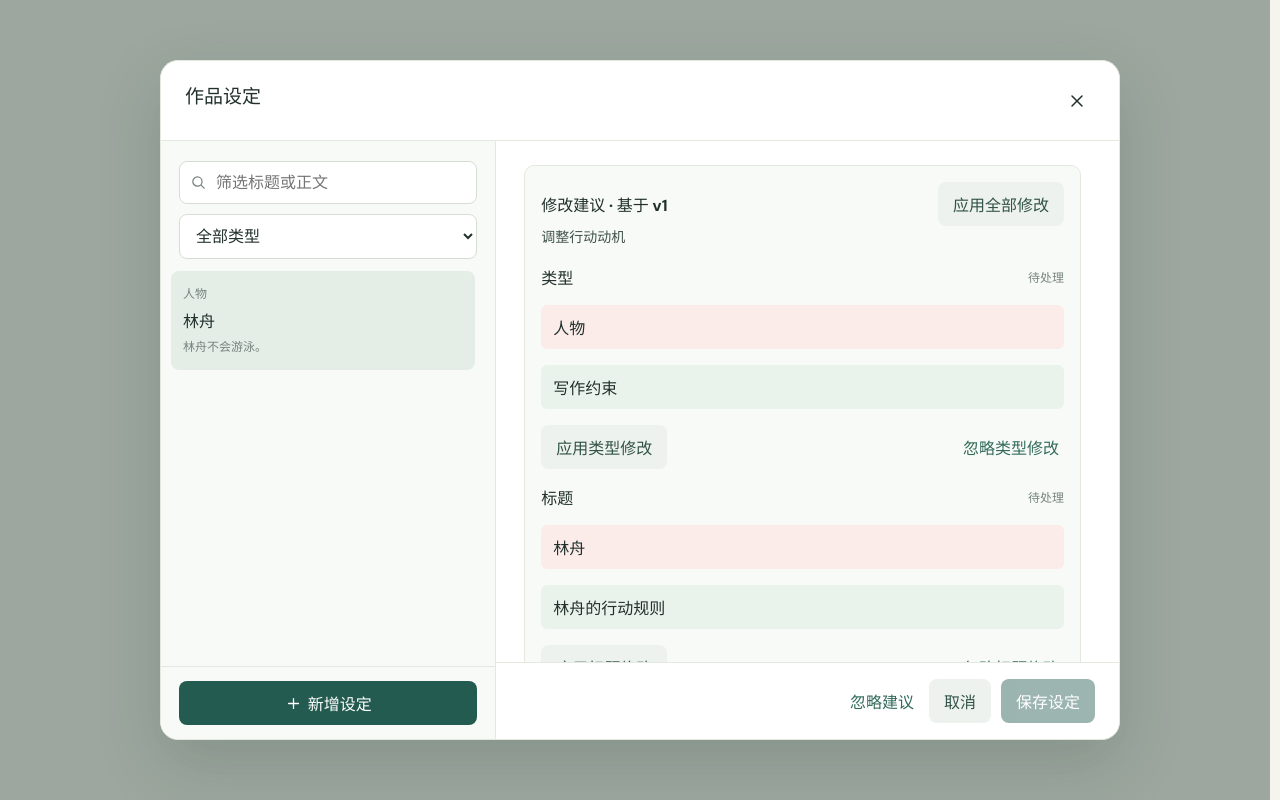
it: a server conflict preserves the setting draft and blocks repeated overwrites
Expected: the form named "审阅设定修改" is shown, [496,141,1119,739]
Click the button "应用全部修改": (1001, 204) [938,182,1064,226]
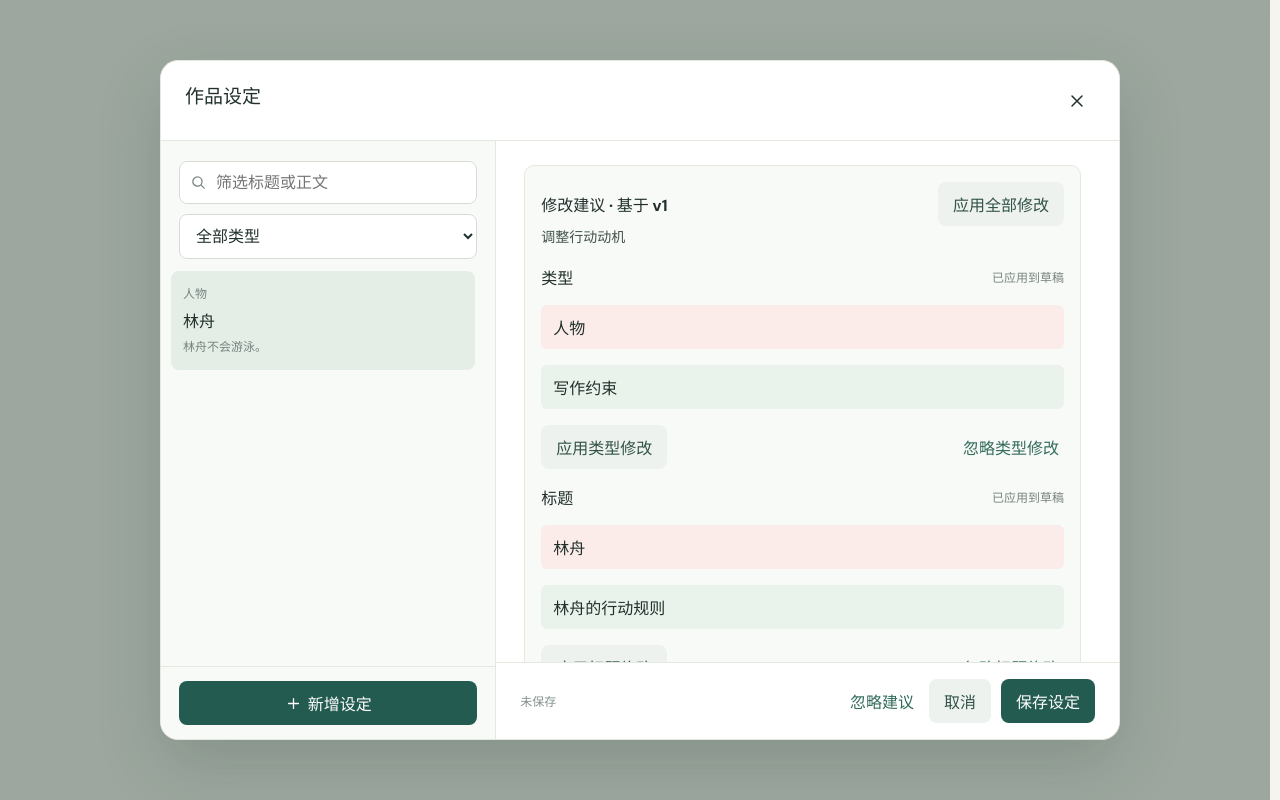
Click the button "保存设定": (1048, 701) [1001,679,1095,723]
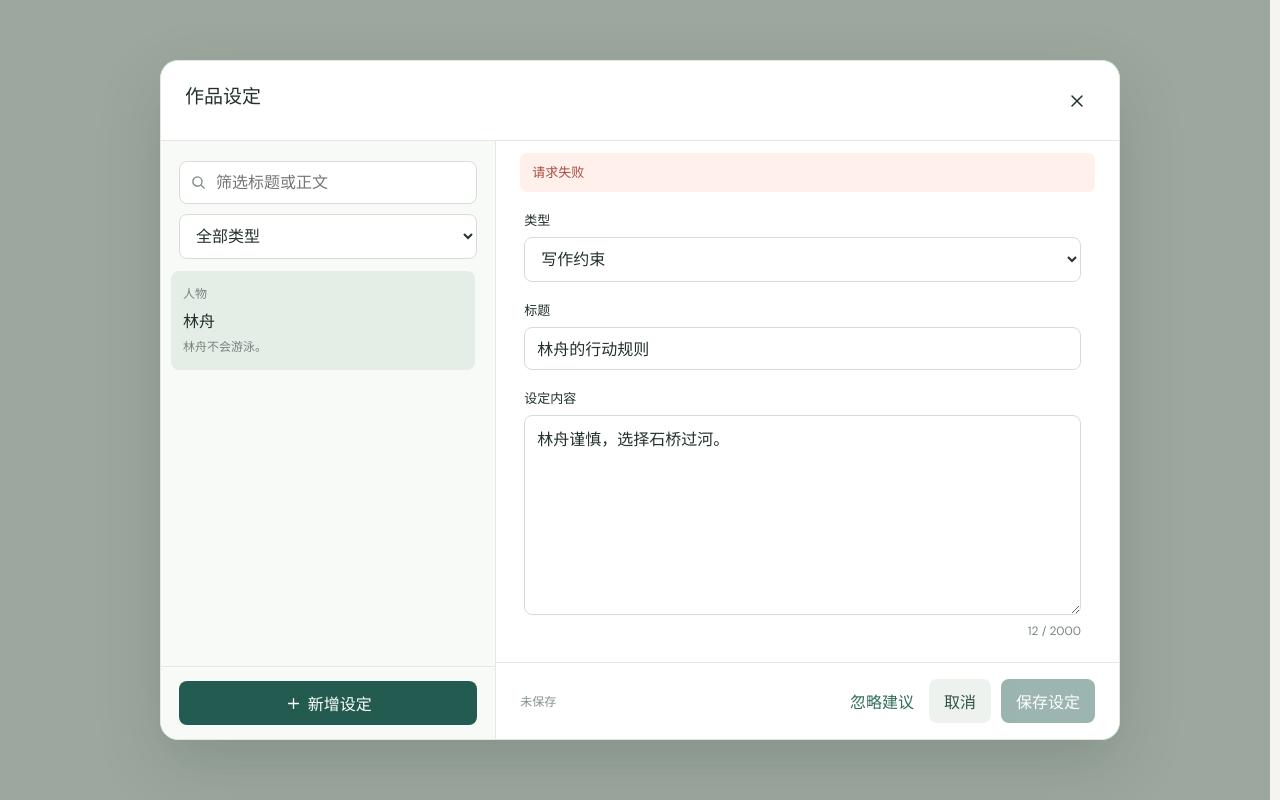
Now the button "保存设定" is disabled, box [1001,679,1095,723]
Now the text box labelled "设定内容" holds "林舟谨慎，选择石桥过河。", box [524,415,1081,615]
